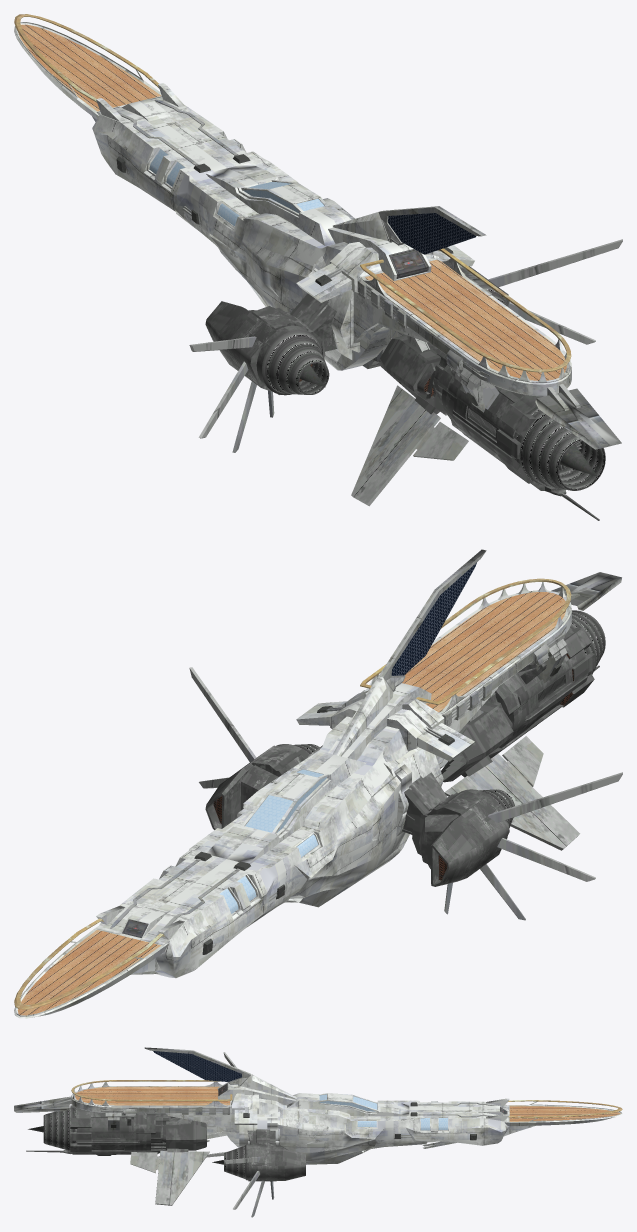
Rendered from CS-1860 Sovereign I.fbx.
The picture shows the model from 3 angles, top to bottom: view 1: azimuth 30°, elevation 25°; view 2: azimuth 150°, elevation 25°; view 3: azimuth 270°, elevation 25°; orthographic projection. The views are drawn at different scales.
Parts seen in each view (by area): view 1: Hull, Engines, Deck, Hull 2, Nozzle, Hull 2.2, Hull.2, Gold, Sail, Metal, Windows, Doors; view 2: Hull, Engines, Deck, Hull 2, Hull 2.2, Hull.2, Gold, Sail, Windows, Nozzle, Metal; view 3: Hull, Engines, Deck, Hull 2, Hull 2.2, Hull.2, Nozzle, Gold, Sail, Windows, Metal.
Part boxes in pixels (x1=…): Hull: x1=92, y1=83, x2=474, y2=370; Engines: x1=205, y1=266, x2=599, y2=520; Deck: x1=18, y1=24, x2=566, y2=380; Hull 2: x1=189, y1=239, x2=622, y2=506; Nozzle: x1=262, y1=284, x2=605, y2=490; Hull 2.2: x1=117, y1=99, x2=621, y2=449; Hull.2: x1=14, y1=22, x2=571, y2=396; Gold: x1=14, y1=14, x2=571, y2=372; Sail: x1=388, y1=213, x2=476, y2=254; Metal: x1=116, y1=154, x2=597, y2=476; Windows: x1=149, y1=149, x2=324, y2=226; Doors: x1=389, y1=249, x2=428, y2=278; Hull: x1=96, y1=676, x2=497, y2=978; Engines: x1=205, y1=627, x2=599, y2=886; Deck: x1=17, y1=592, x2=565, y2=1015; Hull 2: x1=189, y1=667, x2=622, y2=920; Hull 2.2: x1=110, y1=549, x2=621, y2=937; Hull.2: x1=14, y1=582, x2=571, y2=1018; Gold: x1=14, y1=578, x2=571, y2=1009; Sail: x1=391, y1=562, x2=476, y2=675; Windows: x1=220, y1=769, x2=326, y2=913; Nozzle: x1=294, y1=610, x2=605, y2=827; Metal: x1=194, y1=662, x2=561, y2=954; Hull: x1=166, y1=1074, x2=535, y2=1164; Engines: x1=26, y1=1105, x2=305, y2=1181; Deck: x1=74, y1=1086, x2=620, y2=1121; Hull 2: x1=130, y1=1052, x2=274, y2=1217; Hull 2.2: x1=14, y1=1047, x2=506, y2=1157; Hull.2: x1=71, y1=1081, x2=622, y2=1125; Nozzle: x1=43, y1=1107, x2=246, y2=1179; Gold: x1=71, y1=1080, x2=622, y2=1117; Sail: x1=153, y1=1051, x2=242, y2=1081; Windows: x1=319, y1=1094, x2=447, y2=1130; Metal: x1=28, y1=1102, x2=476, y2=1164.
Bounding box in the file's own units: 223 × 127 × 528.
13 materials, 13 textured.
